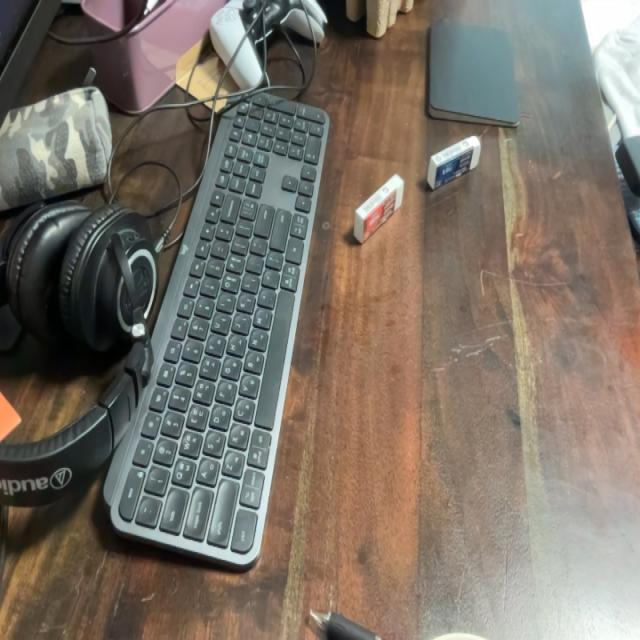blue: (425, 132, 484, 191)
red: (348, 168, 407, 254)
